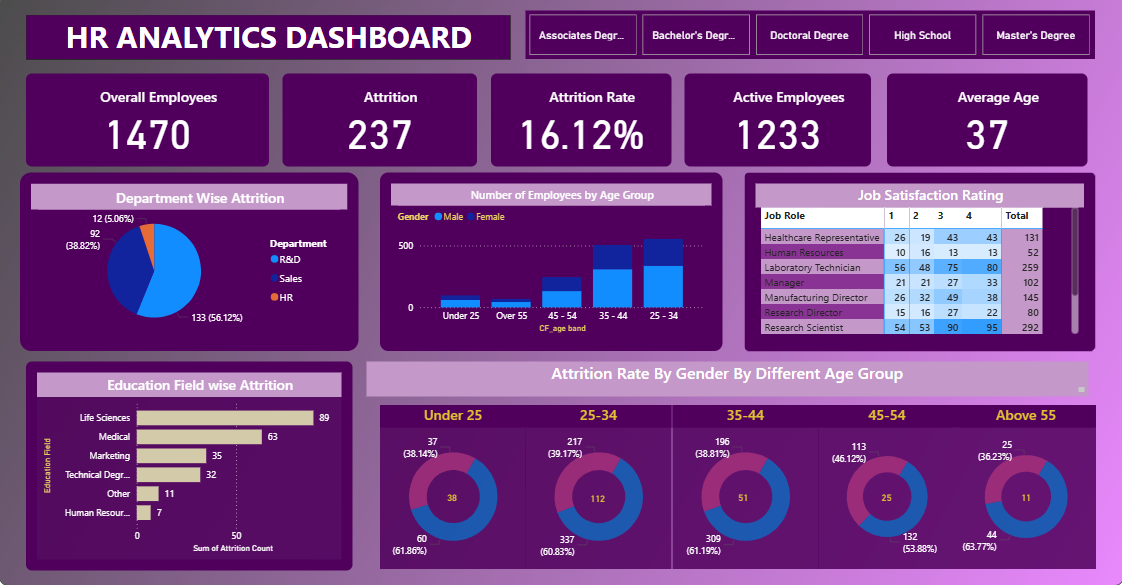

This screenshot's page, from the dashboard's own definition file:
{"tool":"powerbi","page":{"name":"Page 1","canvas":[1500,1350],"ordinal":0},"visuals":[{"type":"card","title":"Overall Employees","fields":{"Values":["Sum(HR data.Employee Count)"]},"box":[35.1,386.5,324.3,124.3],"z":0},{"type":"card","title":"Attrition","fields":{"Values":["Sum(HR data.Attrition Count)"]},"box":[378.4,386.5,259.5,124.3],"z":1000},{"type":"card","title":"Attrition Rate","fields":{"Values":["HR data.Attrition Rate"]},"box":[656.8,386.5,240.5,124.3],"z":2000},{"type":"card","title":"Active Employees","fields":{"Values":["HR data.Active Employees"]},"box":[913.5,386.5,248.6,124.3],"z":3000},{"type":"card","title":"Average Age","fields":{"Values":["Avg(HR data.Age)"]},"box":[1183.8,386.5,267.6,124.3],"z":4000},{"type":"pieChart","title":" Department Wise Attrition","fields":{"Category":["HR data.Department"],"Y":["Sum(HR data.Attrition Count)"]},"box":[27,518.9,451.4,237.8],"z":5000},{"type":"columnChart","title":"Number of Employees by Age Group ","fields":{"Category":["HR data.CF_age band"],"Y":["Sum(HR data.Employee Count)"],"Series":["HR data.Gender"]},"box":[508.1,518.9,456.8,237.8],"z":6000},{"type":"pivotTable","title":"Job Satisfaction Rating","fields":{"Rows":["HR data.Job Role"],"Columns":["HR data.Job Satisfaction"],"Values":["Sum(HR data.Employee Count)"]},"box":[994.6,518.9,467.6,237.8],"z":7000},{"type":"barChart","title":"Education Field wise Attrition","fields":{"Category":["HR data.Education Field"],"Y":["Sum(HR data.Attrition Count)"]},"box":[35.1,770.3,435.1,278.4],"z":8000},{"type":"donutChart","title":"Under 25","fields":{"Category":["HR data.Gender"],"Series":["HR data.CF_age band"],"Y":["Sum(HR data.Employee Count)"]},"box":[508.1,827,194.6,218.9],"z":9000},{"type":"textbox","title":"Attrition Rate By Gender By Different Age Group","box":[489.2,770.3,962.2,45.9],"z":10000},{"type":"donutChart","title":" 25-34","fields":{"Category":["HR data.Gender"],"Series":["HR data.CF_age band"],"Y":["Sum(HR data.Employee Count)"]},"box":[702.7,827,194.6,218.9],"z":11000},{"type":"donutChart","title":"35-44","fields":{"Category":["HR data.Gender"],"Series":["HR data.CF_age band"],"Y":["Sum(HR data.Employee Count)"]},"box":[897.3,827,194.6,218.9],"z":12000},{"type":"donutChart","title":"45-54","fields":{"Category":["HR data.Gender"],"Series":["HR data.CF_age band"],"Y":["Sum(HR data.Employee Count)"]},"box":[1091.9,827,183.8,218.9],"z":13000},{"type":"donutChart","title":"Above 55","fields":{"Category":["HR data.Gender"],"Series":["HR data.CF_age band"],"Y":["Sum(HR data.Employee Count)"]},"box":[1275.7,827,186.5,218.9],"z":14000},{"type":"card","fields":{"Values":["Sum(HR data.Attrition Count)"]},"box":[583.8,937.8,43.2,29.7],"z":15000},{"type":"card","fields":{"Values":["Sum(HR data.Attrition Count)"]},"box":[778.4,940.5,43.2,29.7],"z":16000},{"type":"card","fields":{"Values":["Sum(HR data.Attrition Count)"]},"box":[973,937.8,43.2,29.7],"z":17000},{"type":"card","fields":{"Values":["Sum(HR data.Attrition Count)"]},"box":[1162.2,937.8,45.9,29.7],"z":18000},{"type":"card","fields":{"Values":["Sum(HR data.Attrition Count)"]},"box":[1348.6,937.8,45.9,29.7],"z":19000},{"type":"textbox","title":"HR ANALYTICS DASHBOARD","box":[35.1,308.1,645.9,59.5],"z":20000},{"type":"advancedSlicerVisual","fields":{"Values":["HR data.Education"]},"box":[702.7,302.7,759.5,64.9],"z":21000}]}

Visuals, with their boxes on the page's 1500x1350 design canvas (x1, y1, x2, y2). These are canvas units, not pixel positions in the 1122x585 screenshot, which may show the page scaled, cropped or inside an application window:
"Overall Employees" card: left=35, top=386, right=359, bottom=511
"Attrition" card: left=378, top=386, right=638, bottom=511
"Attrition Rate" card: left=657, top=386, right=897, bottom=511
"Active Employees" card: left=914, top=386, right=1162, bottom=511
"Average Age" card: left=1184, top=386, right=1451, bottom=511
" Department Wise Attrition" pieChart: left=27, top=519, right=478, bottom=757
"Number of Employees by Age Group " columnChart: left=508, top=519, right=965, bottom=757
"Job Satisfaction Rating" pivotTable: left=995, top=519, right=1462, bottom=757
"Education Field wise Attrition" barChart: left=35, top=770, right=470, bottom=1049
"Under 25" donutChart: left=508, top=827, right=703, bottom=1046
"Attrition Rate By Gender By Different Age Group" textbox: left=489, top=770, right=1451, bottom=816
" 25-34" donutChart: left=703, top=827, right=897, bottom=1046
"35-44" donutChart: left=897, top=827, right=1092, bottom=1046
"45-54" donutChart: left=1092, top=827, right=1276, bottom=1046
"Above 55" donutChart: left=1276, top=827, right=1462, bottom=1046
card - Sum(HR data.Attrition Count): left=584, top=938, right=627, bottom=968
card - Sum(HR data.Attrition Count): left=778, top=940, right=822, bottom=970
card - Sum(HR data.Attrition Count): left=973, top=938, right=1016, bottom=968
card - Sum(HR data.Attrition Count): left=1162, top=938, right=1208, bottom=968
card - Sum(HR data.Attrition Count): left=1349, top=938, right=1394, bottom=968
"HR ANALYTICS DASHBOARD" textbox: left=35, top=308, right=681, bottom=368
advancedSlicerVisual - HR data.Education: left=703, top=303, right=1462, bottom=368
